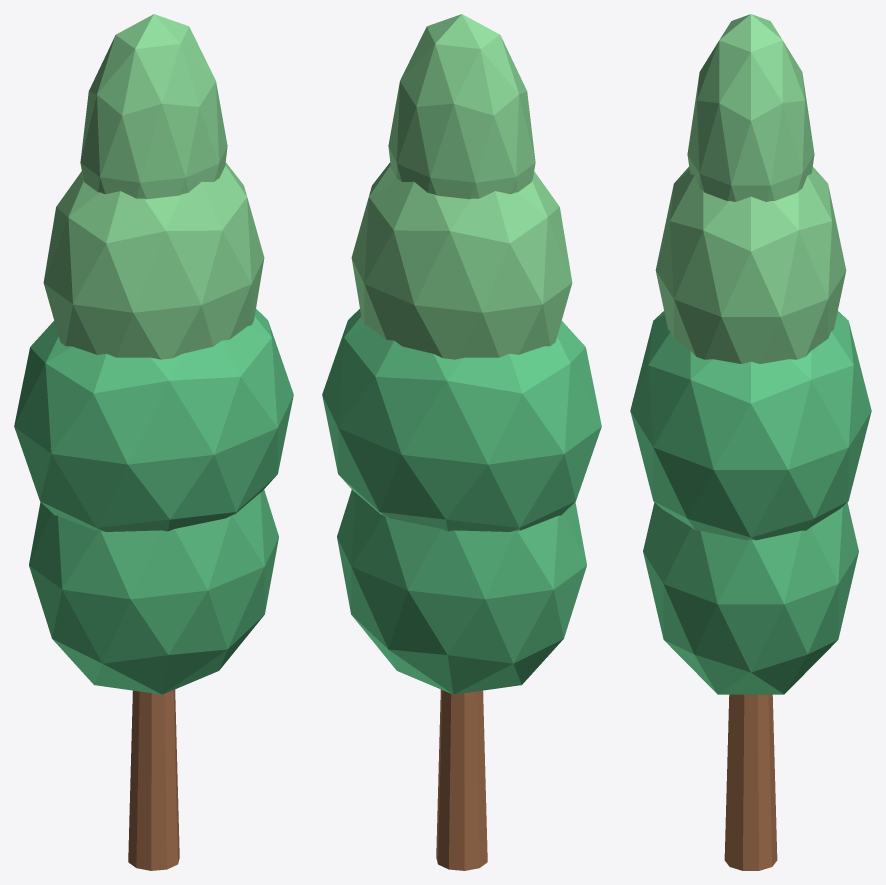
Rendered from tree_poplar_large.glb.
3 views of the same model, side by side, from view 1: azimuth 30°, elevation 25°; view 2: azimuth 150°, elevation 25°; view 3: azimuth 270°, elevation 25° (orthographic).
Parts seen in each view (by area): view 1: tree_poplar_large_Mesh; view 2: tree_poplar_large_Mesh; view 3: tree_poplar_large_Mesh.
Part boxes in pixels (left/top/right/bottom): tree_poplar_large_Mesh: left=14, top=14, right=293, bottom=870; tree_poplar_large_Mesh: left=322, top=14, right=601, bottom=870; tree_poplar_large_Mesh: left=630, top=14, right=871, bottom=870.
Size of the model in its own units: 3.61 by 12.05 by 3.12.
